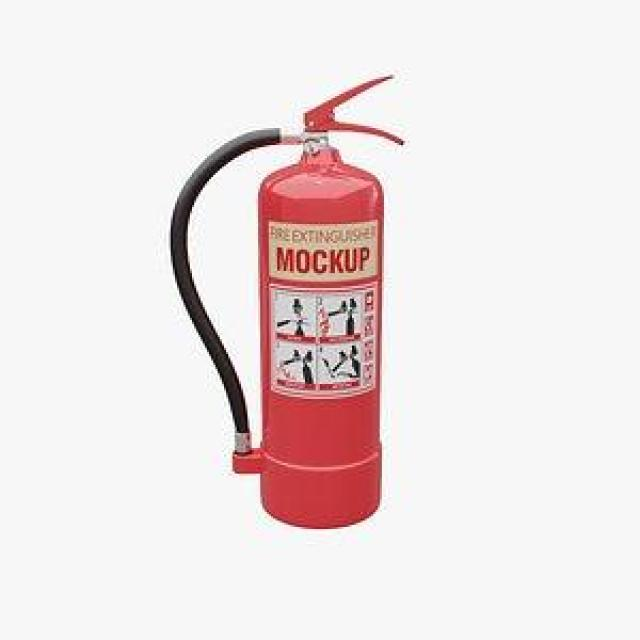fire_extinguisher: (163, 70, 409, 532)
